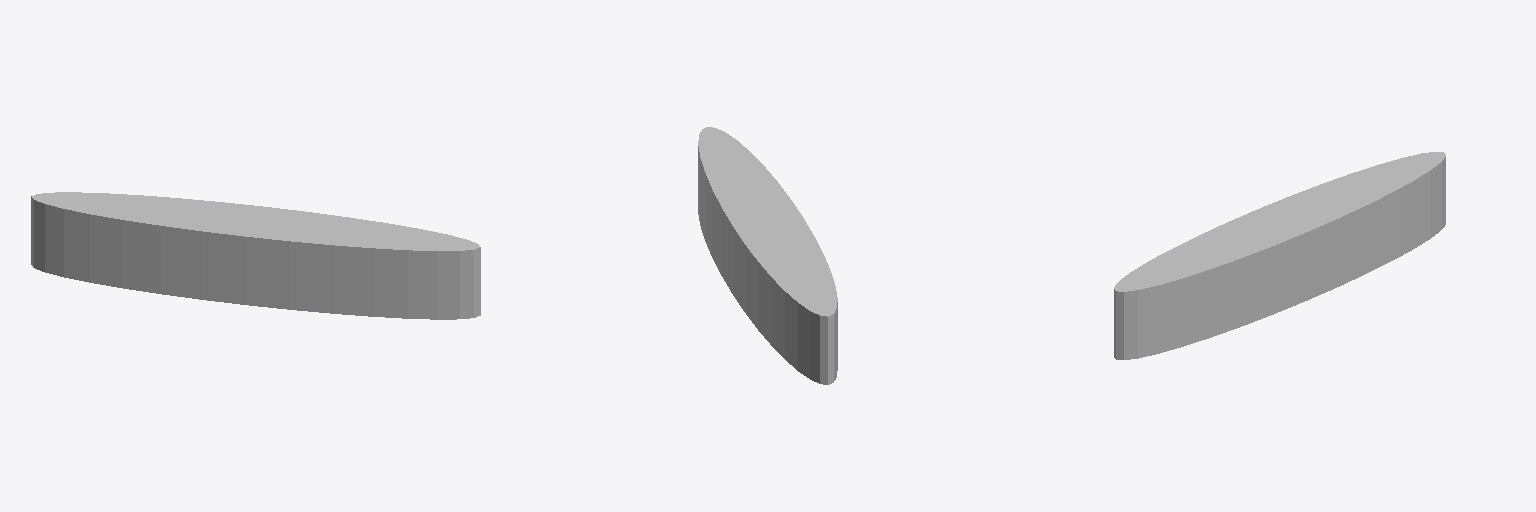
The model's file is leftpaddle.obj.
3 renders of one model, left to right at view 1: azimuth 30°, elevation 25°; view 2: azimuth 150°, elevation 25°; view 3: azimuth 270°, elevation 25°, orthographic.
Visible parts, largest first — view 1: Cube; view 2: Cube; view 3: Cube.
Part boxes in pixels (x1,y1,x2,y2): Cube: (31,192,480,319); Cube: (698,127,837,384); Cube: (1114,152,1445,359).
Size of the model in its own units: 10.61 by 2.41 by 10.61.